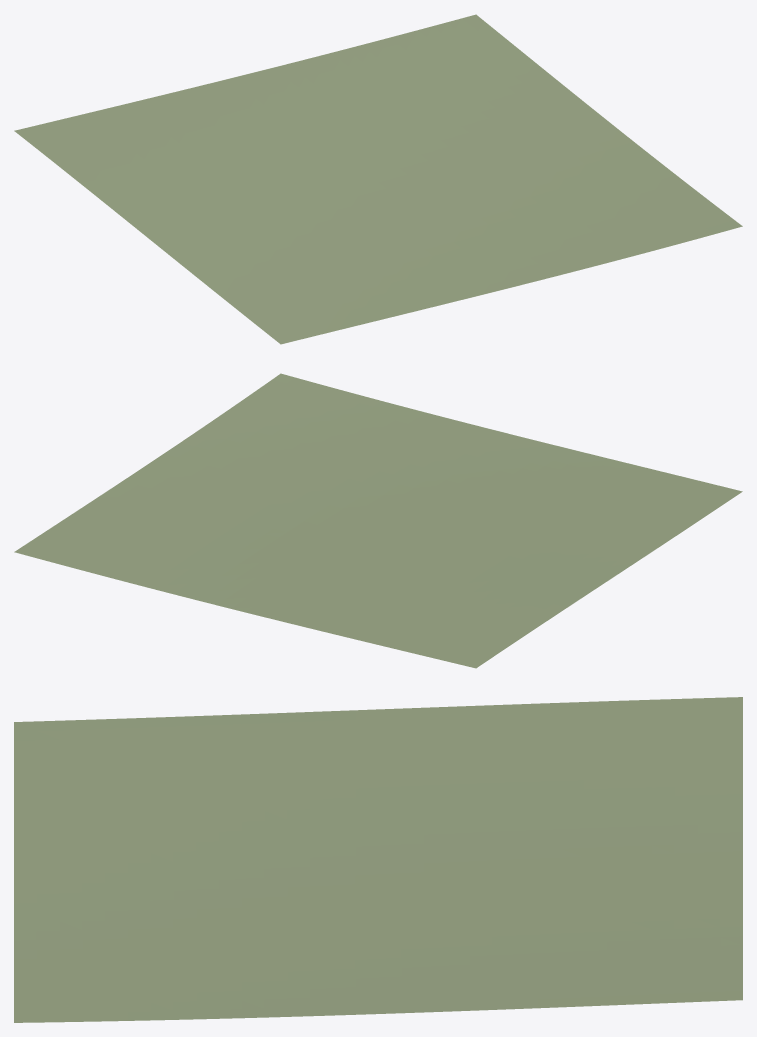
File: expanse-6-4.glb
3 views of the same model, one above another, from view 1: azimuth 30°, elevation 25°; view 2: azimuth 150°, elevation 25°; view 3: azimuth 270°, elevation 25° (orthographic). The views are drawn at different scales.
Parts seen in each view (by area): view 1: expanse-6-4; view 2: expanse-6-4; view 3: expanse-6-4.
Boxes of the visible parts, bbox=[...] form: expanse-6-4: bbox=[14, 14, 742, 344]; expanse-6-4: bbox=[14, 373, 742, 668]; expanse-6-4: bbox=[14, 697, 742, 1022].
Size of the model in its own units: 256 by 11.62 by 256.
